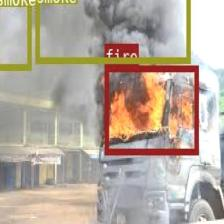fire: (104, 65, 198, 153)
smoke: (34, 0, 189, 62), (0, 0, 30, 69)
